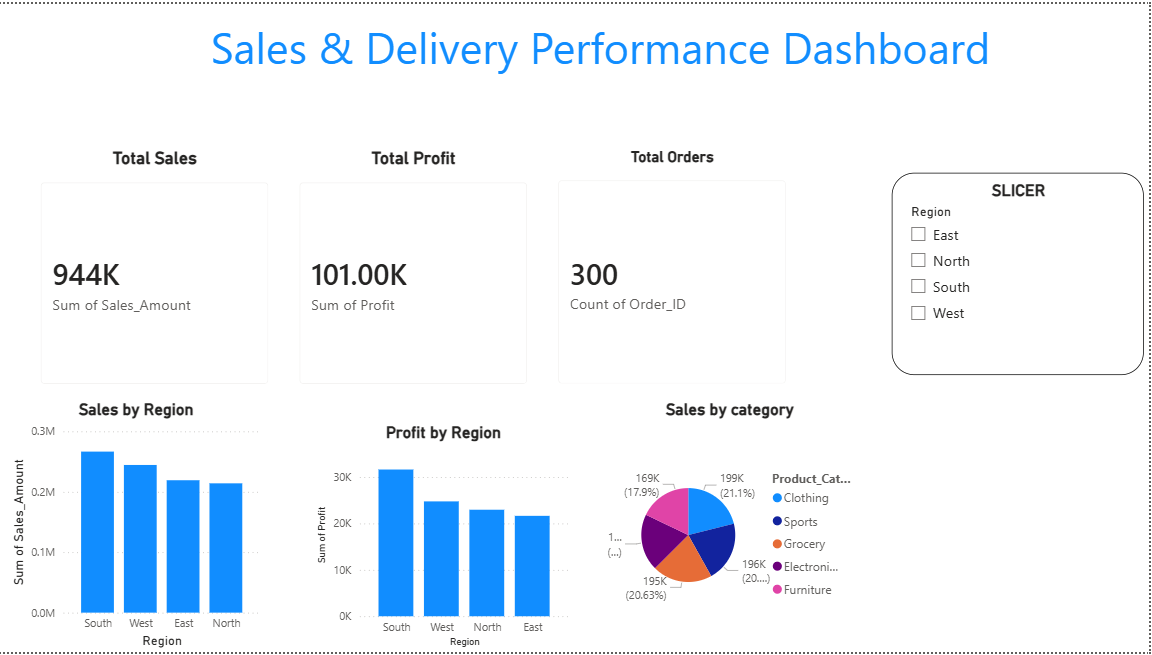

Layout of this report page (visuals, bound fields, positions):
{"tool":"powerbi","page":{"name":"Executive OverView","canvas":[1280,720],"ordinal":0},"visuals":[{"type":"cardVisual","title":"Total Sales","fields":{"Data":["Sum(cleaned_sales_data.Sales_Amount)"]},"box":[9.6,0,288.2,279.9],"z":0},{"type":"cardVisual","title":"Total Profit","fields":{"Data":["Sum(cleaned_sales_data.Profit)"]},"box":[297.8,0,288.2,279.9],"z":2},{"type":"cardVisual","title":"Total Orders","fields":{"Data":["CountNonNull(cleaned_sales_data.Order_ID)"]},"box":[606.7,0,288.3,280],"z":3},{"type":"clusteredColumnChart","title":"Sales by Region","fields":{"Category":["cleaned_sales_data.Region"],"Y":["Sum(cleaned_sales_data.Sales_Amount)"]},"box":[10,290,288,280],"z":4},{"type":"clusteredColumnChart","title":"Profit by Region","fields":{"Category":["cleaned_sales_data.Region"],"Y":["Sum(cleaned_sales_data.Profit)"]},"box":[318.3,290,288.3,255],"z":5},{"type":"pieChart","title":"Sales by category","fields":{"Category":["cleaned_sales_data.Product_Category"],"Y":["Sum(cleaned_sales_data.Sales_Amount)"]},"box":[640,280,288.3,280],"z":7},{"type":"slicer","title":"SLICER","fields":{"Values":["cleaned_sales_data.Region"]},"box":[978.3,10,278.3,225],"z":8},{"type":"cardVisual","title":"Delayed Orders","fields":{"Data":["CountNonNull(cleaned_sales_data.Delay_Status)"]},"box":[930,316.7,286.7,150],"z":9},{"type":"textbox","box":[10,570,1121.7,150],"z":10}]}

Visuals, with their boxes in screenshot pixels (x1, y1, x2, y2), scaled from the page's 1280x720 canvas onto the 1152x655 screenshot:
"Total Sales" cardVisual: select_region(9, 0, 268, 255)
"Total Profit" cardVisual: select_region(268, 0, 527, 255)
"Total Orders" cardVisual: select_region(546, 0, 806, 255)
"Sales by Region" clusteredColumnChart: select_region(9, 264, 268, 519)
"Profit by Region" clusteredColumnChart: select_region(286, 264, 546, 496)
"Sales by category" pieChart: select_region(576, 255, 835, 509)
"SLICER" slicer: select_region(880, 9, 1131, 214)
"Delayed Orders" cardVisual: select_region(837, 288, 1095, 425)
textbox: select_region(9, 519, 1019, 654)
